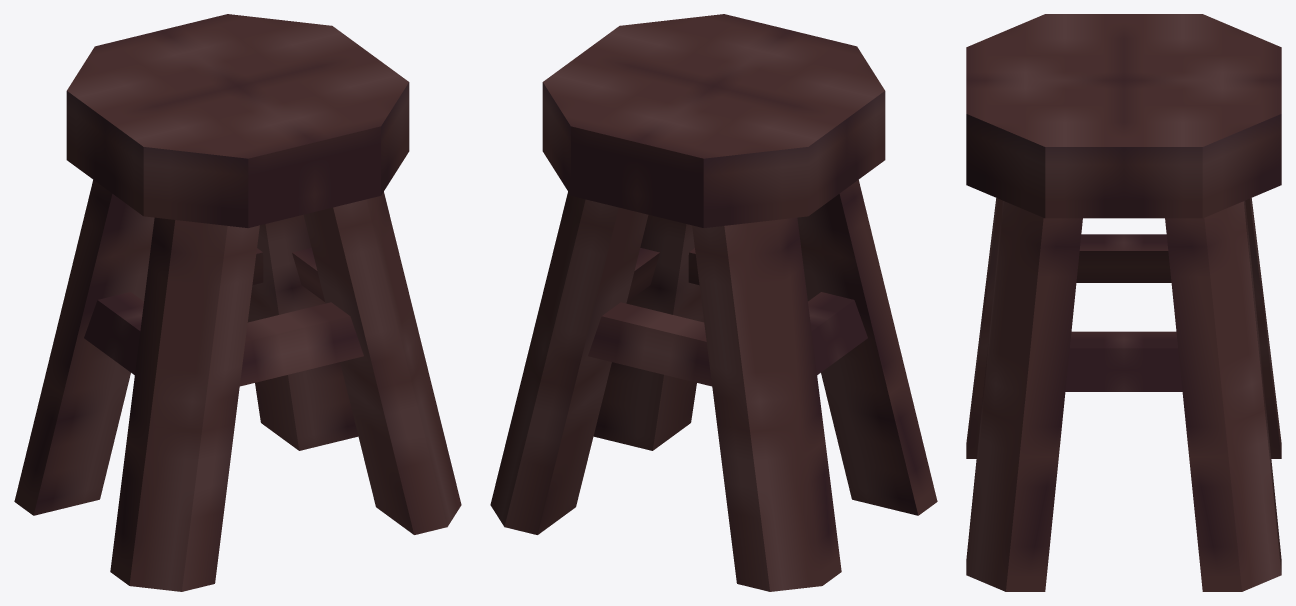
File: Stool.fbx
3 renders of one model, left to right at view 1: azimuth 30°, elevation 25°; view 2: azimuth 150°, elevation 25°; view 3: azimuth 270°, elevation 25°, orthographic. The views are drawn at different scales.
Visible parts, largest first — view 1: Cube.004; view 2: Cube.004; view 3: Cube.004.
Boxes of the visible parts, bbox=[...] form: Cube.004: bbox=[14, 14, 461, 591]; Cube.004: bbox=[490, 14, 937, 591]; Cube.004: bbox=[966, 14, 1281, 591].
Bounding box in the file's own units: 0.625 × 0.5 × 0.75.
